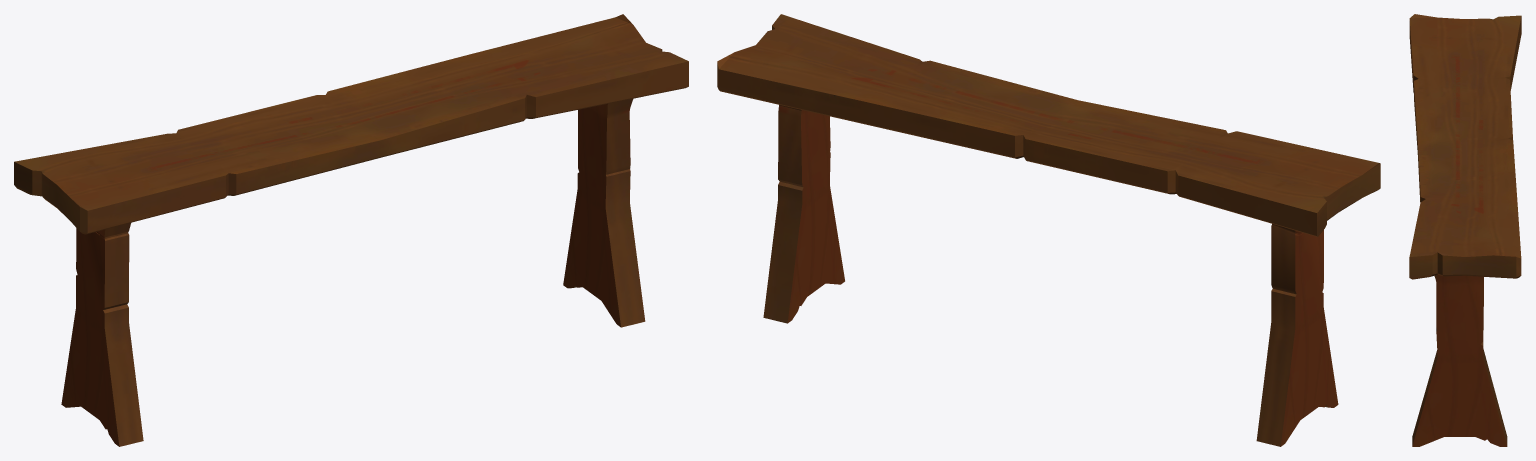
Rendered from Bancada.fbx.
The picture shows the model from 3 angles, left to right: view 1: azimuth 30°, elevation 25°; view 2: azimuth 150°, elevation 25°; view 3: azimuth 270°, elevation 25°; orthographic projection. The views are drawn at different scales.
Parts seen in each view (by area): view 1: Bancada; view 2: Bancada; view 3: Bancada.
Part boxes in pixels (x1=…): Bancada: x1=14, y1=14, x2=688, y2=446; Bancada: x1=717, y1=14, x2=1380, y2=446; Bancada: x1=1409, y1=14, x2=1521, y2=446.
Bounding box in the file's own units: 200 × 79.23 × 38.88.
